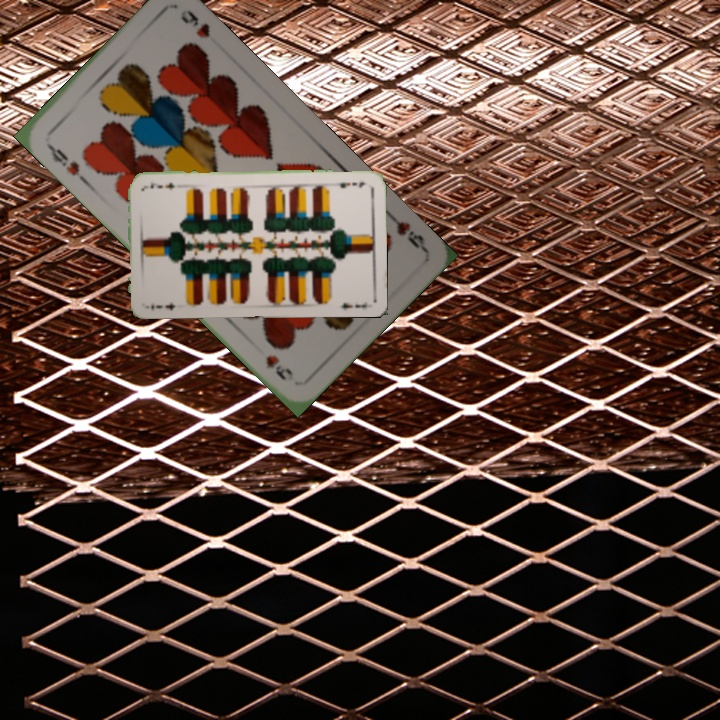E7: (147, 298, 177, 313), (330, 178, 367, 190)
H9: (381, 206, 428, 253), (42, 138, 88, 185)
